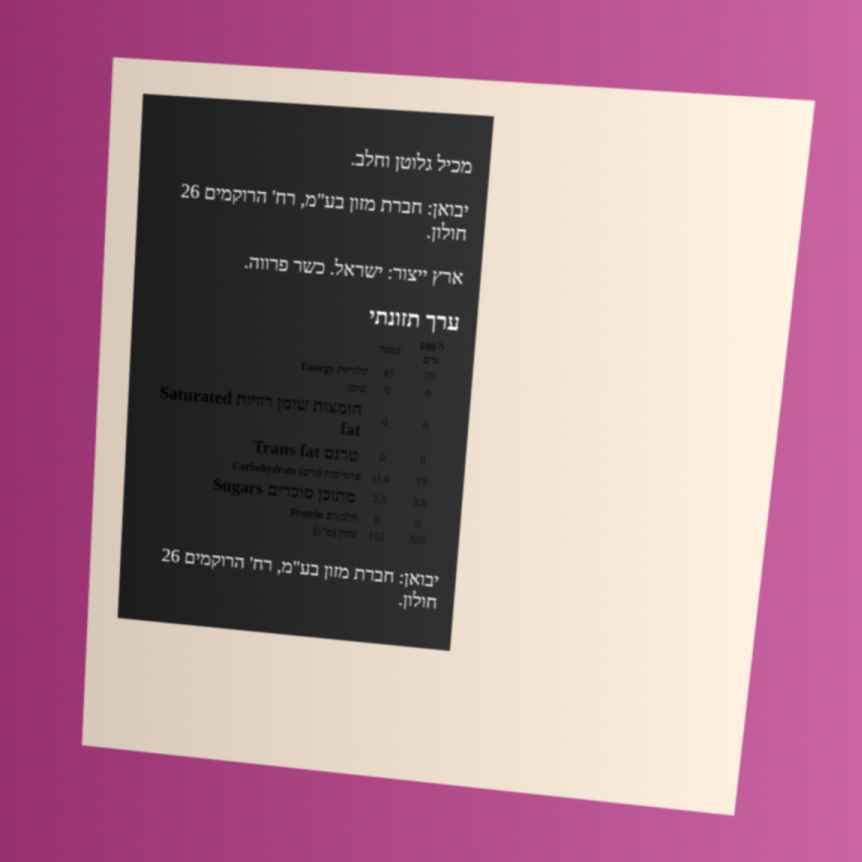carbs: (414, 474, 429, 490)
energy: (422, 369, 437, 385)
fat: (423, 386, 433, 401)
protein: (413, 516, 423, 531)
